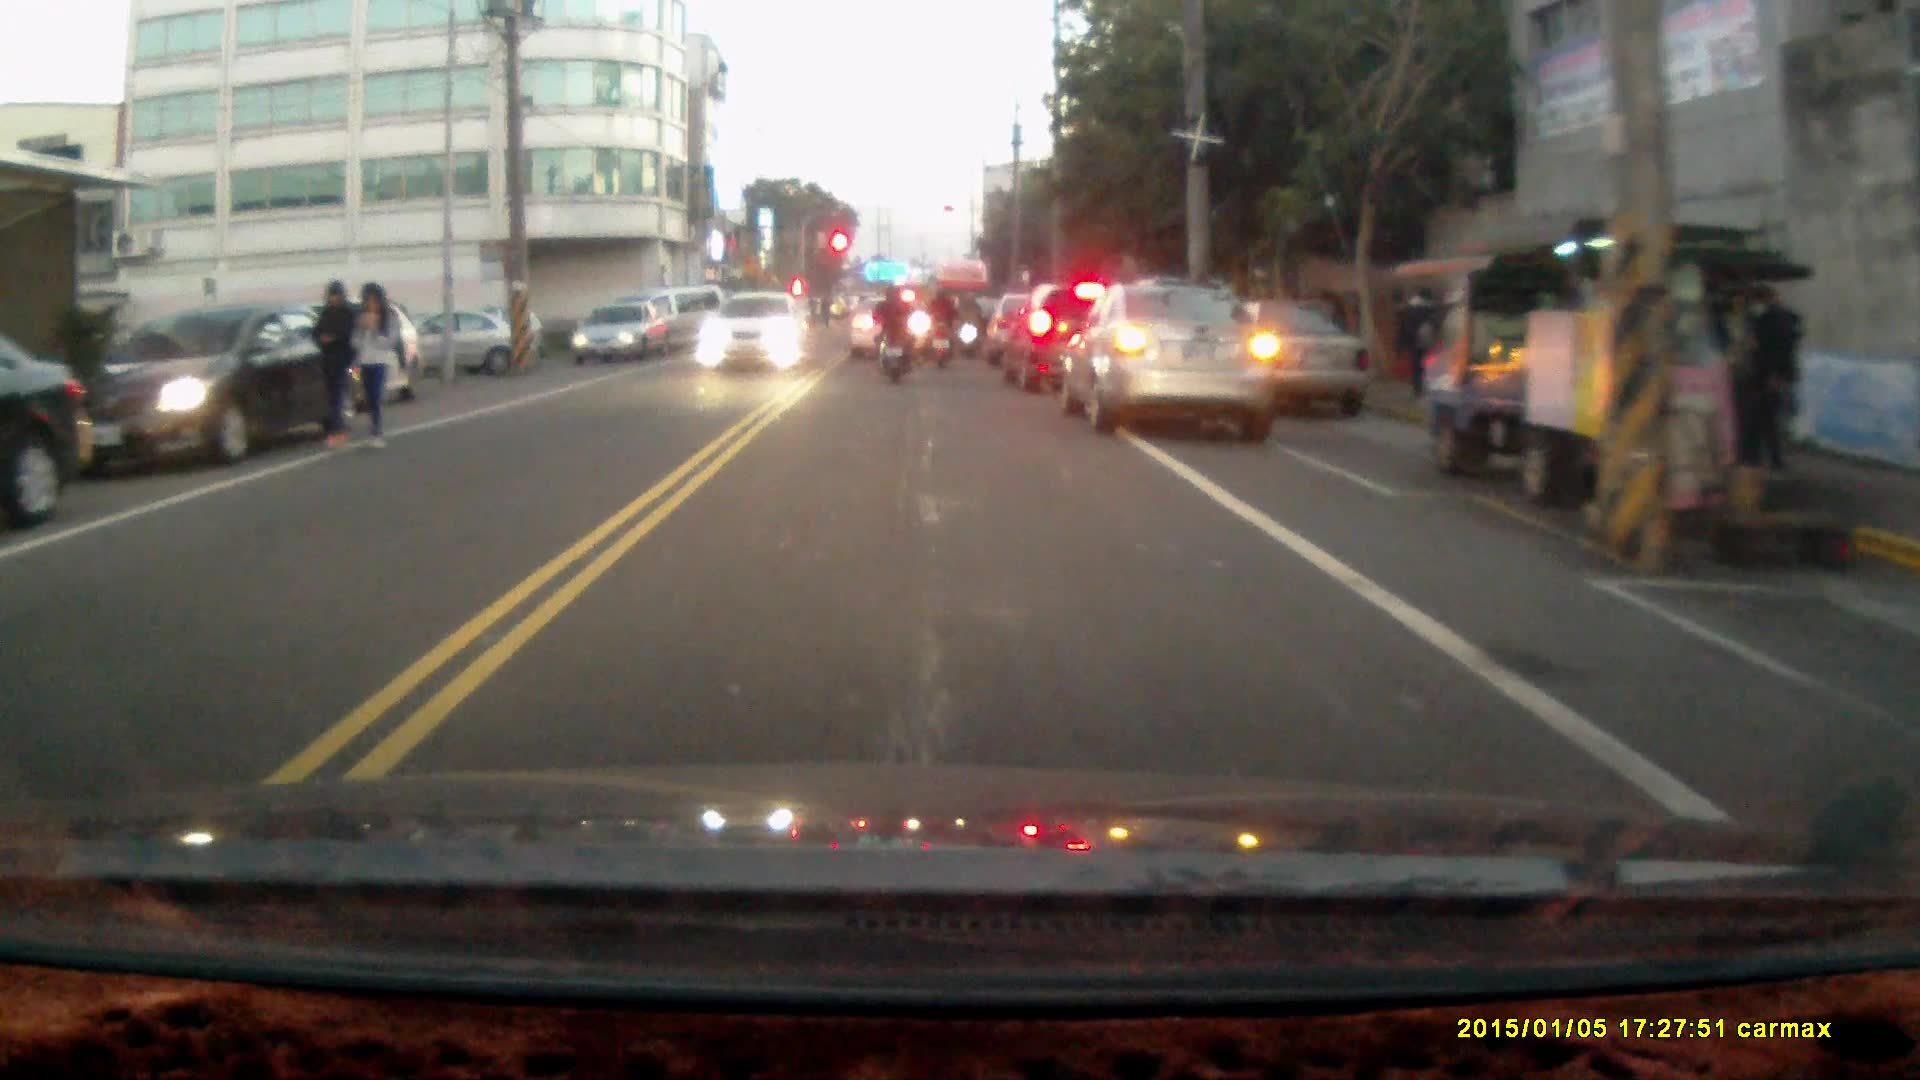pedestrian: (1749, 278, 1810, 474), (310, 272, 358, 449), (349, 280, 397, 453), (1400, 282, 1438, 406)
rider: (869, 281, 913, 387), (924, 285, 958, 366)
vehicle: (1424, 218, 1788, 501), (49, 297, 358, 474), (1069, 276, 1278, 432), (2, 321, 96, 532), (1010, 279, 1175, 393), (695, 294, 806, 373), (572, 304, 664, 365), (850, 294, 936, 359)
